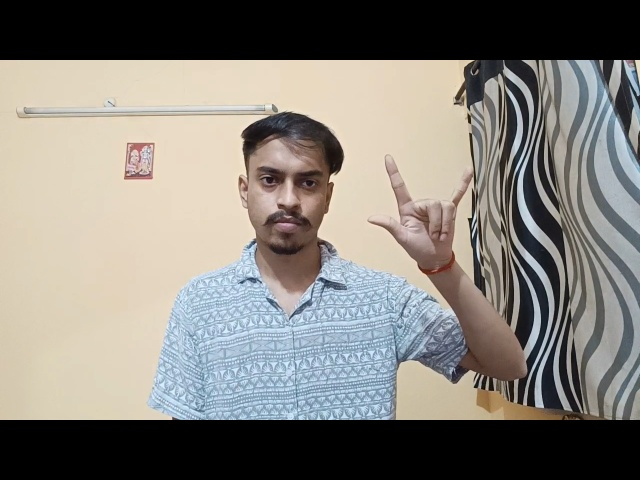ILoveyou: (362, 143, 488, 276)
